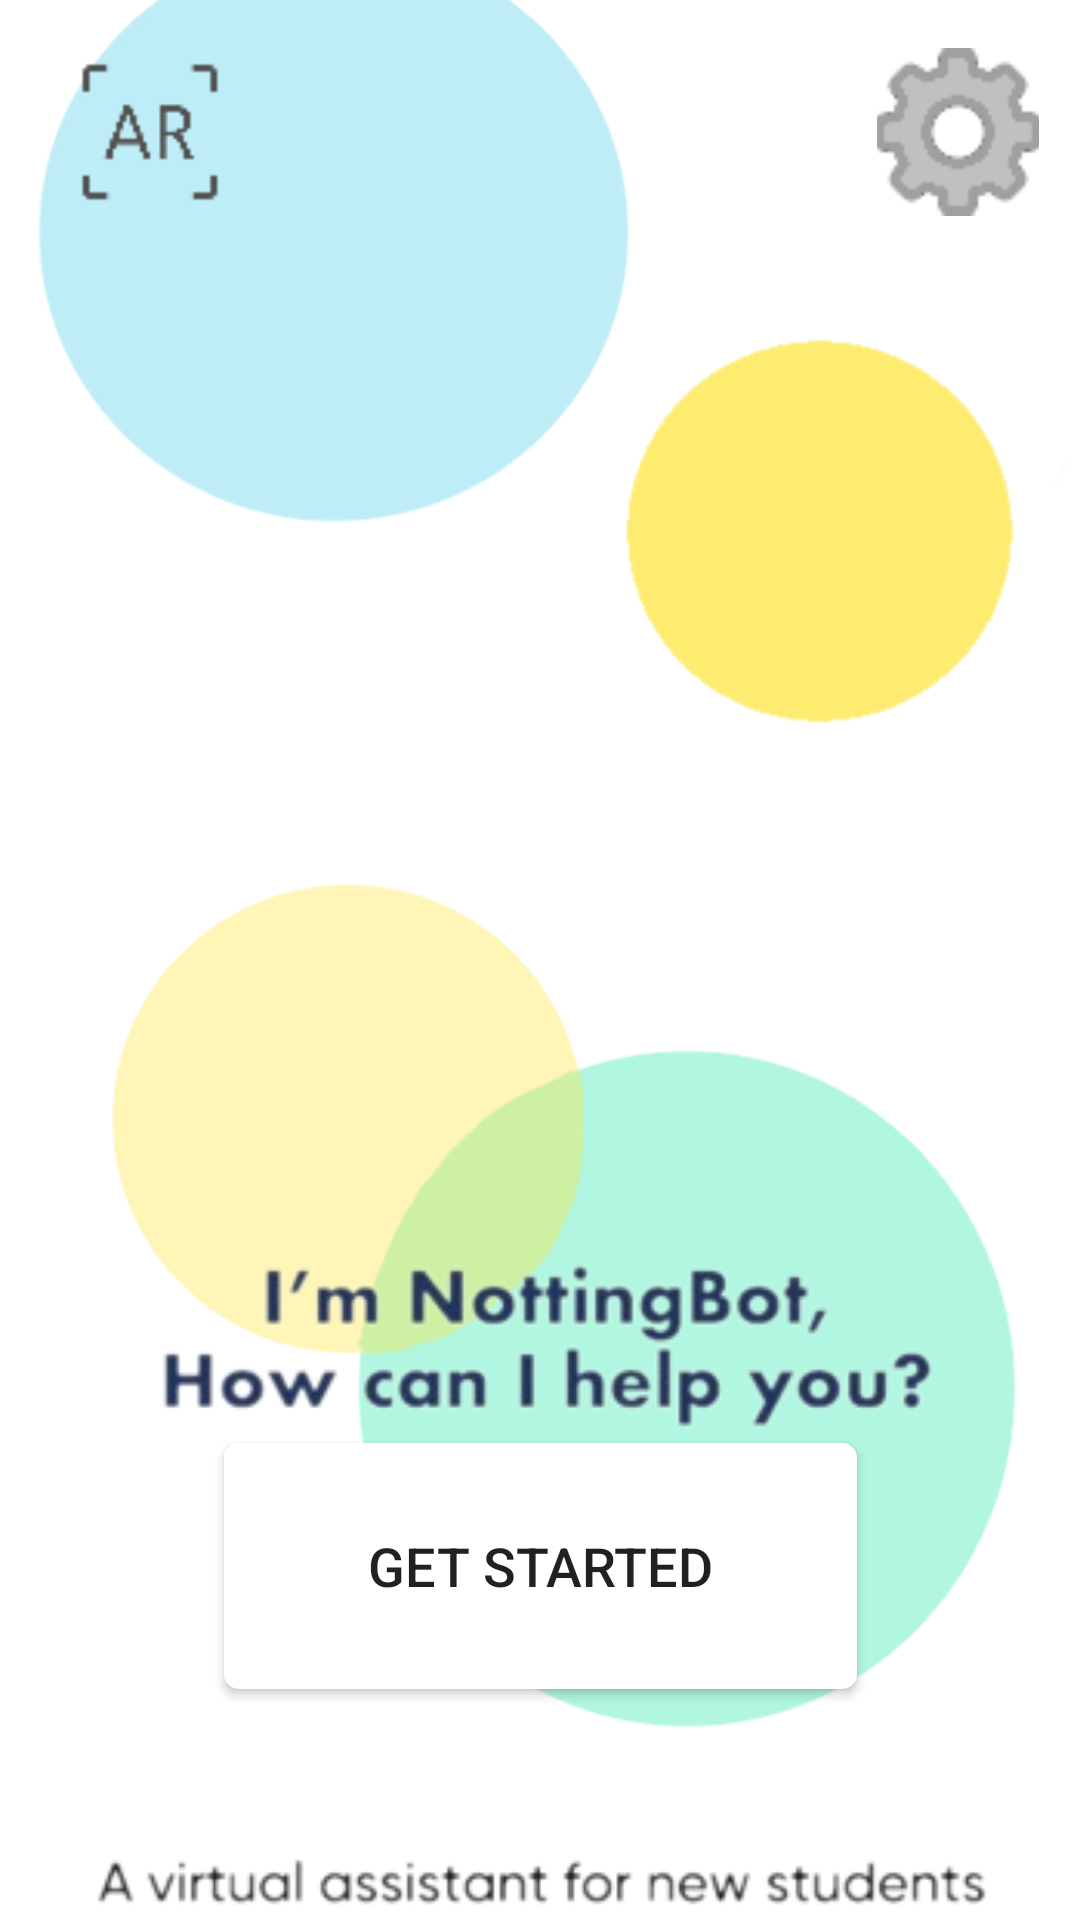

Named icons in this screenshot (1080 × 1920) and their centers, (x=x, y=y):
Settings icon: (x=958, y=132)
